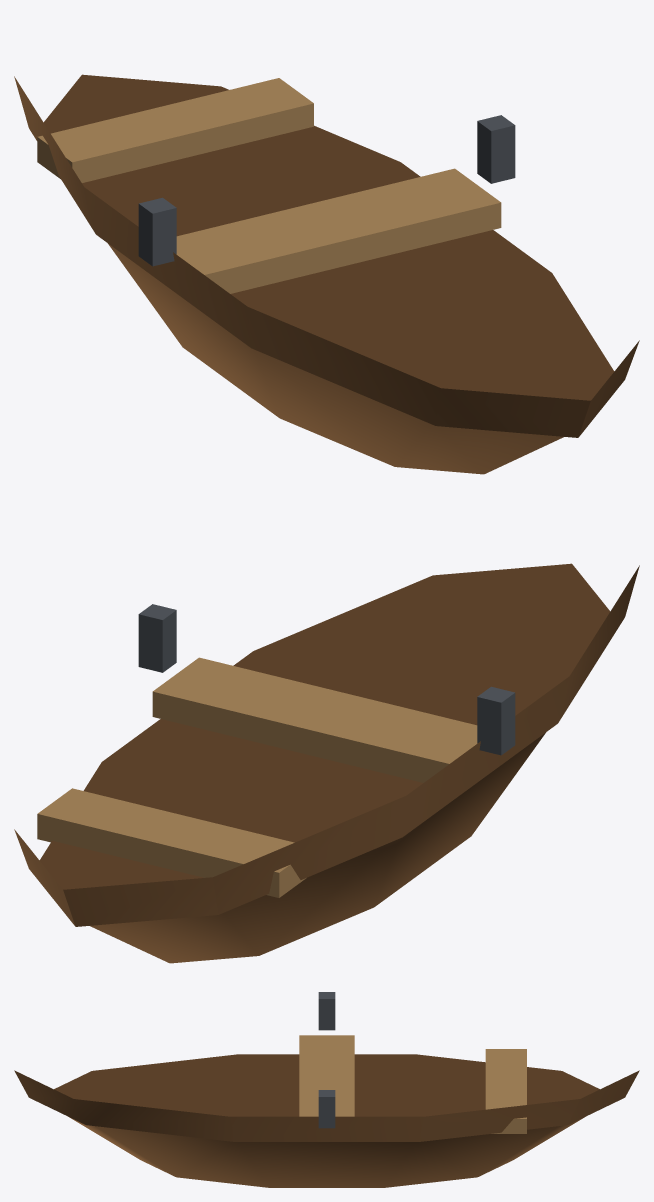
File: ppl_boat.glb
3 renders of one model, top to bottom at view 1: azimuth 30°, elevation 25°; view 2: azimuth 150°, elevation 25°; view 3: azimuth 270°, elevation 25°, orthographic. The views are drawn at different scales.
Parts seen in each view (by area): view 1: ppl_boat; view 2: ppl_boat; view 3: ppl_boat.
Part boxes in pixels (<box>): ppl_boat: <box>14,74,639,474</box>; ppl_boat: <box>14,563,639,963</box>; ppl_boat: <box>14,992,639,1187</box>.
Size of the model in its own units: 0.18 by 0.0925 by 0.4536.
